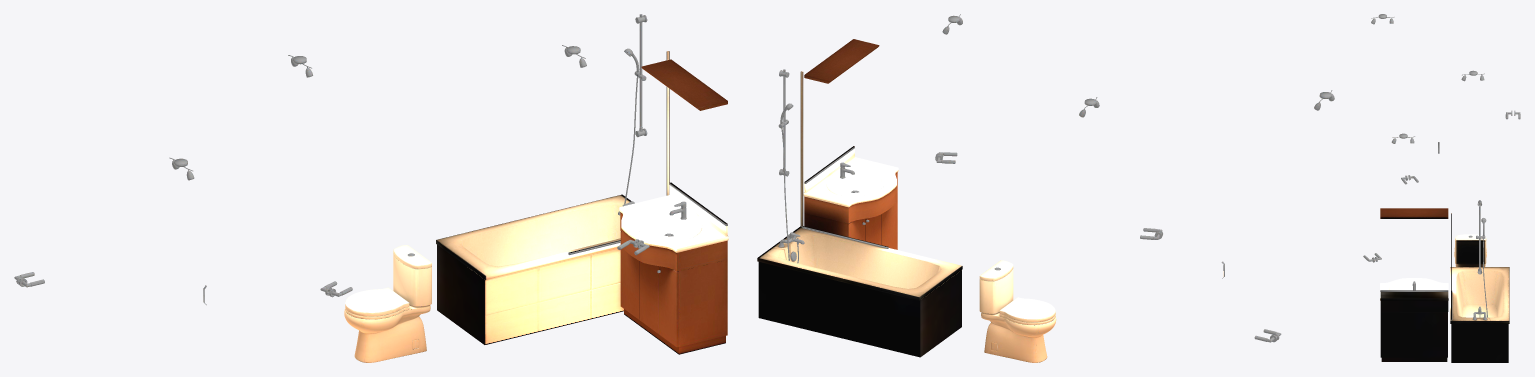
File: SM_Bath_F0.glb
The picture shows the model from 3 angles, left to right: view 1: azimuth 30°, elevation 25°; view 2: azimuth 150°, elevation 25°; view 3: azimuth 270°, elevation 25°; orthographic projection. The views are drawn at different scales.
Parts seen in each view (by area): view 1: SM_Bath_F0; view 2: SM_Bath_F0; view 3: SM_Bath_F0.
Boxes of the visible parts, left/top/right/bottom form: SM_Bath_F0: left=14, top=14, right=728, bottom=362; SM_Bath_F0: left=757, top=14, right=1334, bottom=362; SM_Bath_F0: left=1363, top=14, right=1520, bottom=362.
Size of the model in its own units: 4.98 by 2.48 by 1.89.
1 material, 1 textured.
